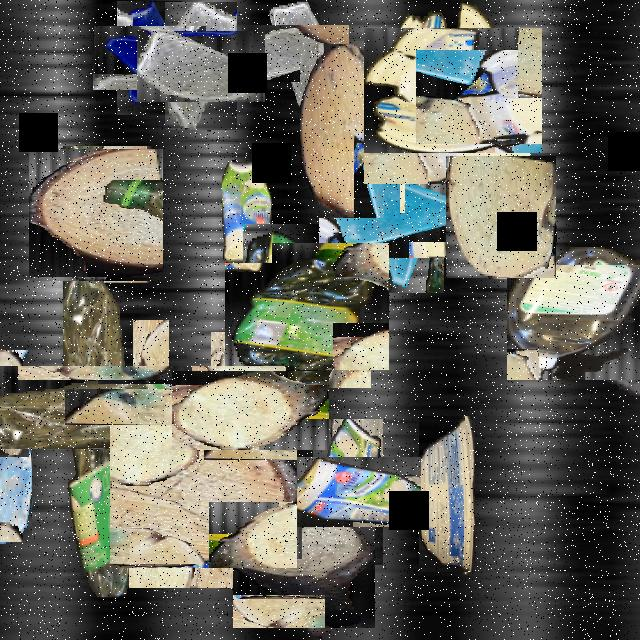glass: (382, 72, 512, 202), (336, 151, 462, 276), (151, 16, 251, 116), (104, 14, 194, 103), (258, 13, 338, 94), (0, 439, 32, 542)
plastic: (0, 291, 220, 522), (377, 15, 529, 166), (234, 233, 380, 379), (515, 255, 640, 388), (294, 438, 402, 546), (419, 416, 475, 572), (222, 160, 272, 263)
wood: (119, 410, 287, 578), (238, 501, 370, 633), (300, 45, 400, 218), (30, 148, 162, 279), (192, 351, 310, 470), (446, 156, 556, 278), (98, 354, 204, 460), (0, 369, 48, 437)
